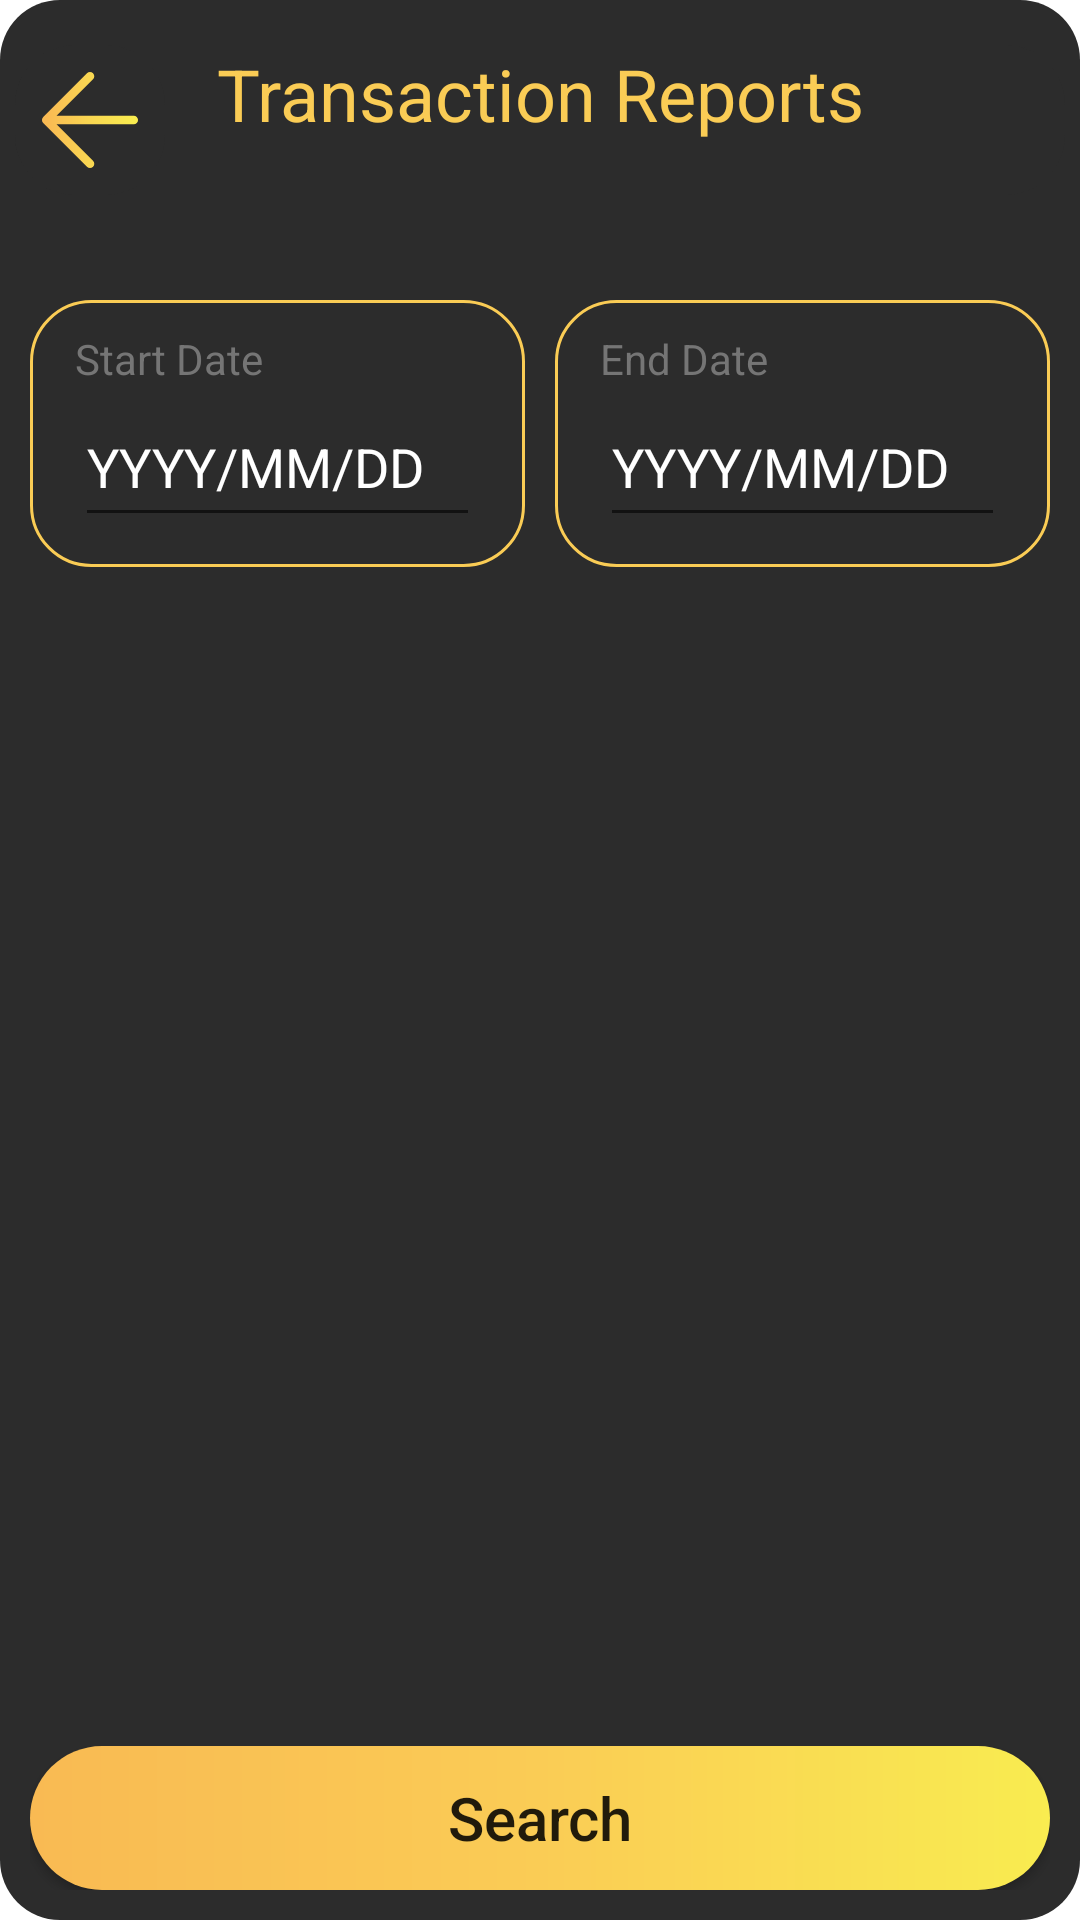

Screen size 1080px x 1920px. Icon name, then its center in pixels as (x,y):
arrow left: (90,120)
